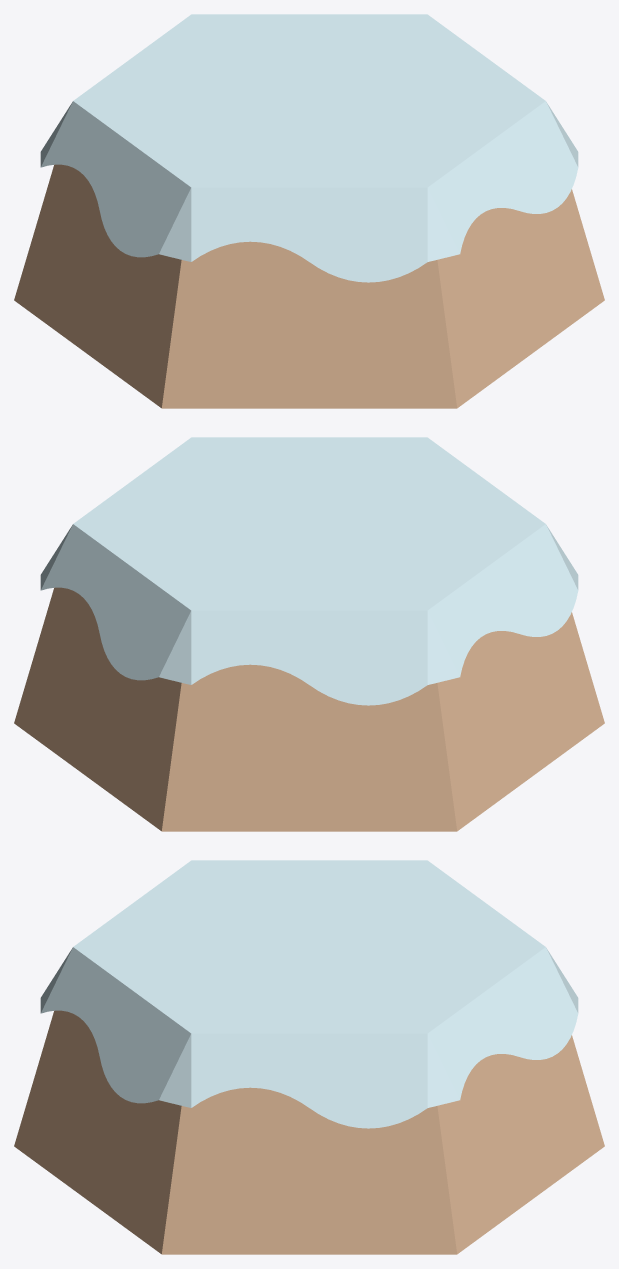
The model's file is blockSnowHexagonLow.glb.
3 renders of one model, top to bottom at view 1: azimuth 30°, elevation 25°; view 2: azimuth 150°, elevation 25°; view 3: azimuth 270°, elevation 25°, orthographic.
Parts seen in each view (by area): view 1: blockSnowHexagonLow; view 2: blockSnowHexagonLow; view 3: blockSnowHexagonLow.
Boxes of the visible parts, box(x1,y1,x2,y2) form: blockSnowHexagonLow: box(14, 14, 604, 408); blockSnowHexagonLow: box(14, 437, 604, 831); blockSnowHexagonLow: box(14, 860, 604, 1254).
Size of the model in its own units: 1 by 0.4298 by 1.15.
